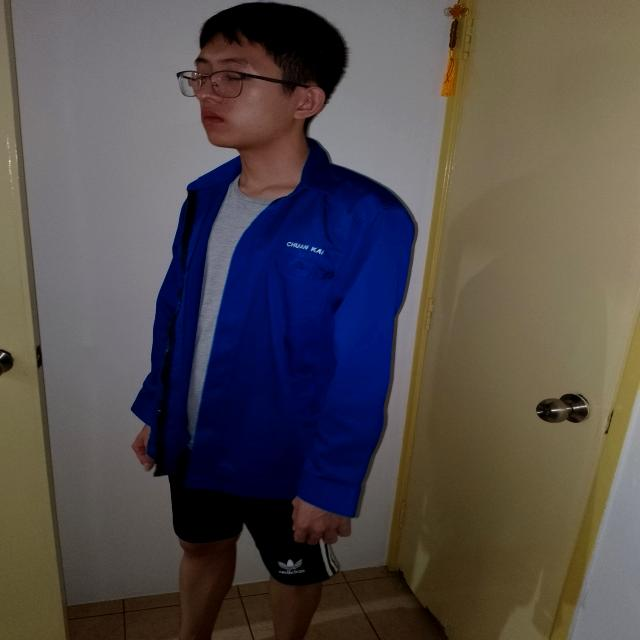person_with_labcoat: (132, 2, 414, 640)
